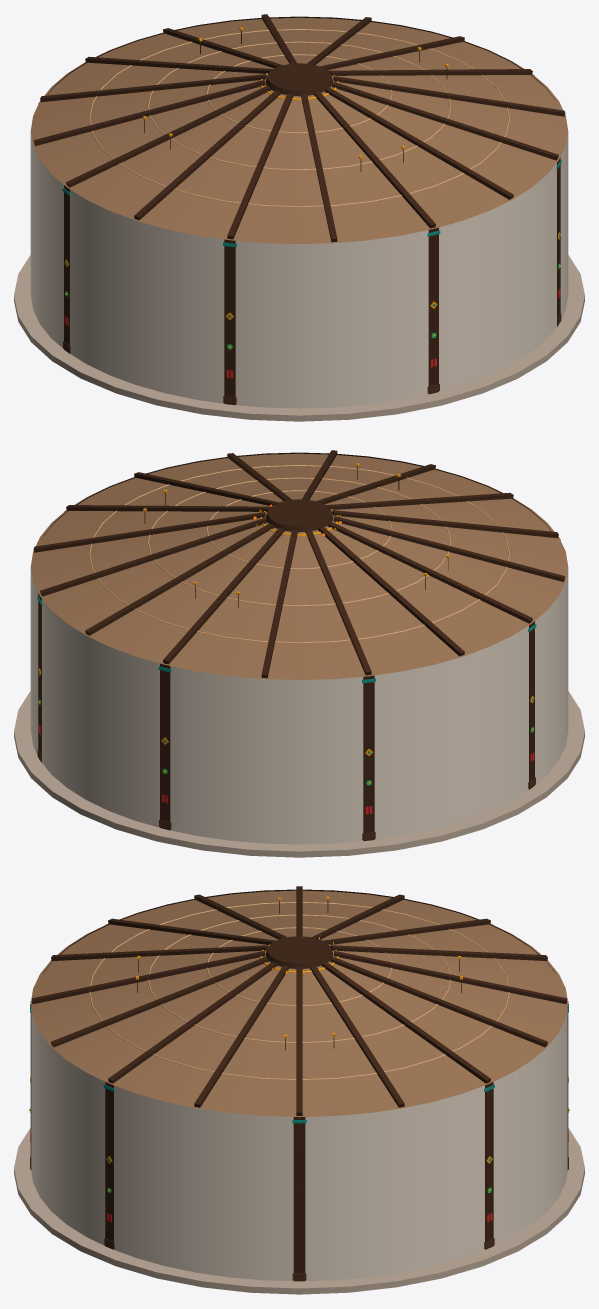
Rendered from museo_wixarika_v15.glb.
3 renders of one model, top to bottom at view 1: azimuth 30°, elevation 25°; view 2: azimuth 150°, elevation 25°; view 3: azimuth 270°, elevation 25°, orthographic.
Visible parts, largest first — view 1: muro_cilindrico, superficie_domo_conico, suelo_principal, estela_pilastra_8, estela_pilastra_1, anillo_oculo, viga_radial_3, viga_radial_12, viga_radial_13, viga_radial_2, viga_radial_4, aro_otate_techo_1 (+15 smaller); view 2: muro_cilindrico, superficie_domo_conico, suelo_principal, estela_pilastra_6, estela_pilastra_5, anillo_oculo, viga_radial_7, viga_radial_14, viga_radial_13, viga_radial_8, viga_radial_6, aro_otate_techo_1 (+15 smaller); view 3: muro_cilindrico, superficie_domo_conico, suelo_principal, estela_pilastra_3, anillo_oculo, viga_radial_2, viga_radial_8, viga_radial_1, viga_radial_9, estela_pilastra_2, estela_pilastra_4, viga_radial_7 (+14 smaller).
Part boxes in pixels (<box>): muro_cilindrico: <box>30,131,568,408</box>; superficie_domo_conico: <box>31,17,567,243</box>; suelo_principal: <box>14,255,584,421</box>; estela_pilastra_8: <box>223,239,236,405</box>; estela_pilastra_1: <box>427,227,440,394</box>; anillo_oculo: <box>265,63,333,96</box>; viga_radial_3: <box>332,82,558,160</box>; viga_radial_12: <box>33,80,265,145</box>; viga_radial_13: <box>66,85,270,187</box>; viga_radial_2: <box>325,87,513,199</box>; viga_radial_4: <box>333,76,565,116</box>; aro_otate_techo_1: <box>88,29,510,207</box>; muro_cilindrico: <box>30,567,568,844</box>; superficie_domo_conico: <box>31,453,567,679</box>; suelo_principal: <box>14,691,584,857</box>; estela_pilastra_6: <box>362,675,375,841</box>; estela_pilastra_5: <box>158,663,171,830</box>; anillo_oculo: <box>265,499,333,532</box>; viga_radial_7: <box>40,518,266,596</box>; viga_radial_14: <box>333,516,565,581</box>; viga_radial_13: <box>328,521,532,623</box>; viga_radial_8: <box>85,523,273,635</box>; viga_radial_6: <box>33,512,265,552</box>; aro_otate_techo_1: <box>88,465,510,643</box>; muro_cilindrico: <box>31,1008,567,1281</box>; superficie_domo_conico: <box>31,890,567,1116</box>; suelo_principal: <box>14,1128,584,1294</box>; estela_pilastra_3: <box>292,1117,306,1281</box>; anillo_oculo: <box>265,936,333,968</box>; viga_radial_2: <box>51,956,268,1047</box>; viga_radial_8: <box>330,956,547,1047</box>; viga_radial_1: <box>31,951,264,1004</box>; viga_radial_9: <box>334,951,567,1004</box>; estela_pilastra_2: <box>104,1082,114,1249</box>; estela_pilastra_4: <box>484,1082,494,1249</box>; viga_radial_7: <box>321,961,490,1083</box>.
Size of what is drawn, in the model's own units: 17 by 7.36 by 17.
